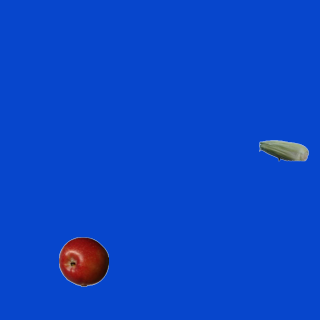Apple Braeburn: (58, 236, 108, 286)
Corn Husk: (258, 125, 308, 175)
